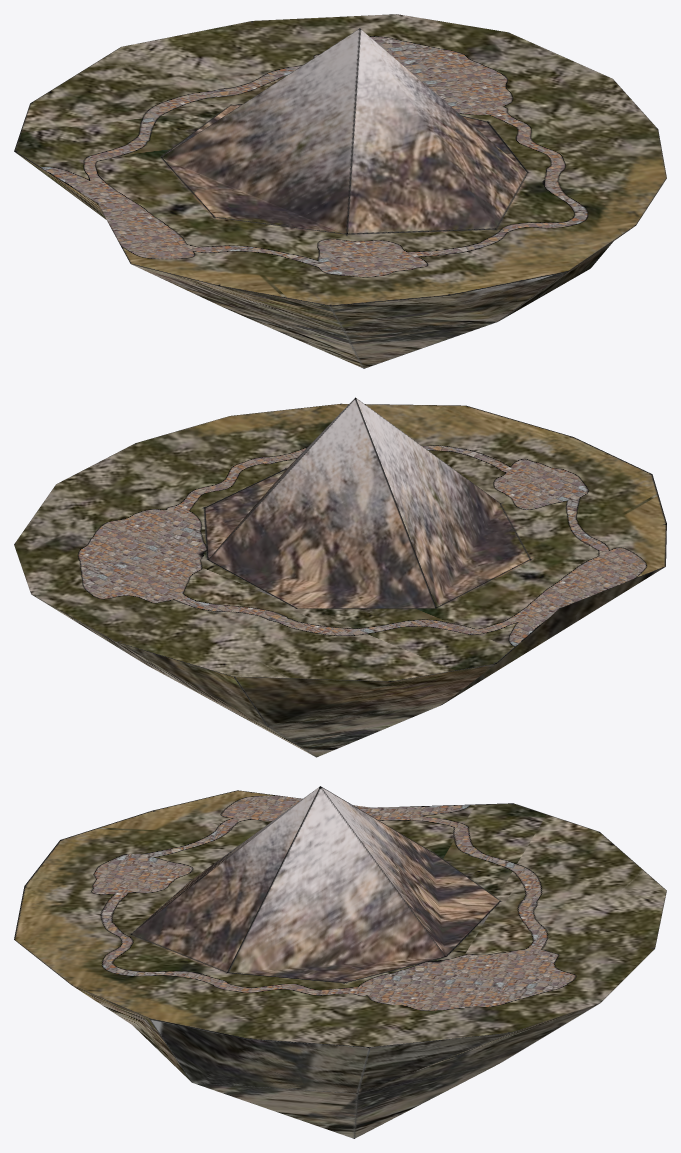
Rendered from island.dae.
3 renders of one model, top to bottom at view 1: azimuth 30°, elevation 25°; view 2: azimuth 150°, elevation 25°; view 3: azimuth 270°, elevation 25°, orthographic. The views are drawn at different scales.
Parts seen in each view (by area): view 1: Cube; view 2: Cube; view 3: Cube.
Part boxes in pixels (x1,y1,x2,y2): Cube: (14, 14, 666, 368); Cube: (14, 397, 666, 757); Cube: (14, 786, 666, 1138).
Bounding box in the file's own units: 3.21 × 3.45 × 2.
Materials: 1 (1 with a texture image).
